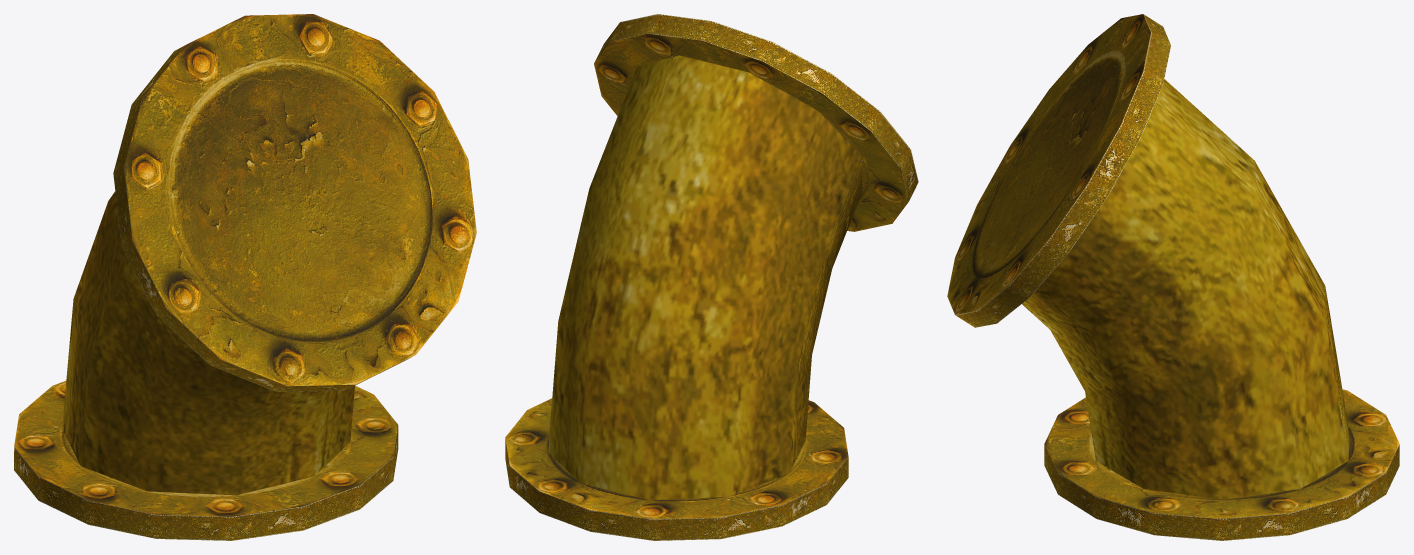
Rendered from elbow_55_yellow.DAE.
3 renders of one model, left to right at view 1: azimuth 30°, elevation 25°; view 2: azimuth 150°, elevation 25°; view 3: azimuth 270°, elevation 25°, orthographic. The views are drawn at different scales.
Parts seen in each view (by area): view 1: Object515, Torus036; view 2: Torus036, Object515; view 3: Torus036, Object515.
Part boxes in pixels (left/top/right/bottom): Object515: left=14, top=14, right=476, bottom=540; Torus036: left=62, top=191, right=354, bottom=495; Torus036: left=548, top=55, right=862, bottom=500; Object515: left=505, top=14, right=918, bottom=540; Torus036: left=1022, top=79, right=1348, bottom=499; Object515: left=947, top=14, right=1399, bottom=540.
Bounding box in the file's own units: 0.6566 × 0.8362 × 0.8835.
